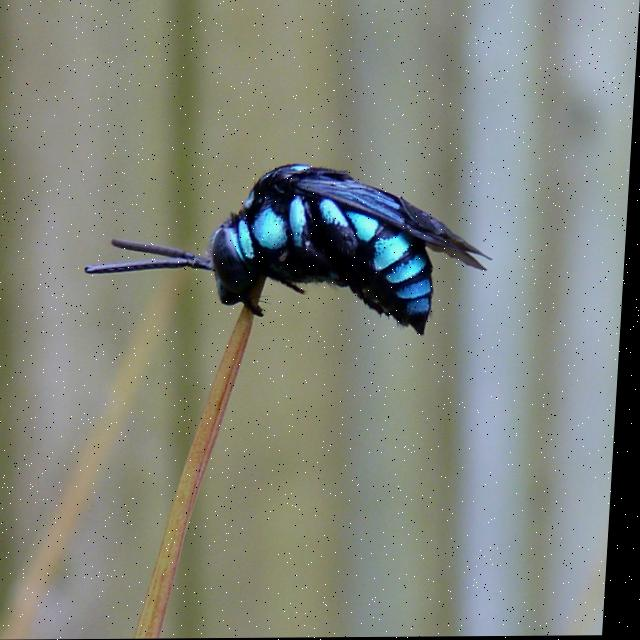Thyreus: (81, 156, 507, 349)
